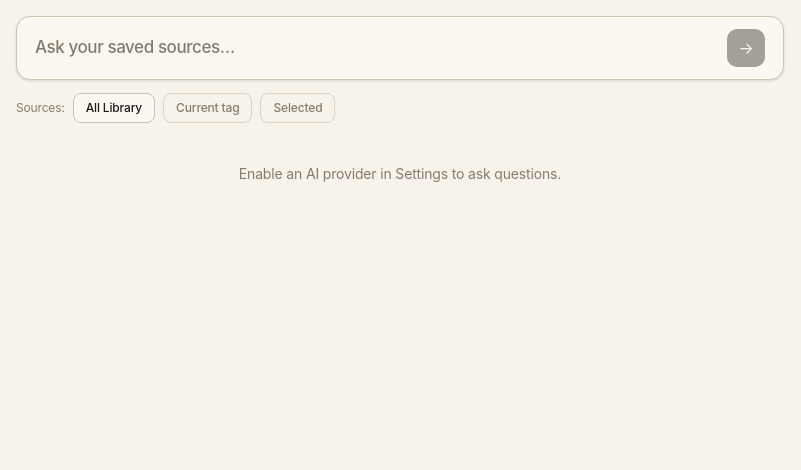
Test: AskPage › asks and renders the answer with citation chip and evidence
Step 1. Type "How do CRDTs merge?" into the field with placeholder "Ask your saved sources…" → (374, 48), box [35,35,714,61]
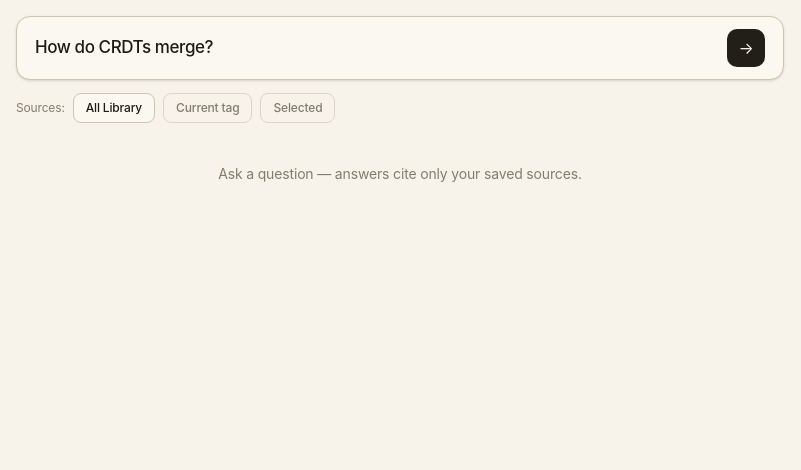
Check: the button named "Answer" is enabled
Step 2. Click the button named "Answer" → (746, 48), box [727,29,765,67]
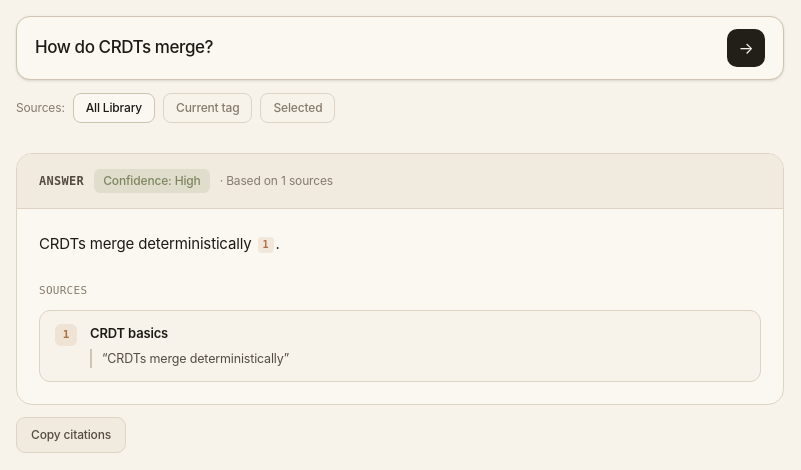
Check: the text "CRDTs merge deterministically 1 ." is shown, box [39,234,280,253]
Check: the text "CRDT basics" is shown, box [90,325,168,341]
Check: the text "· Based on 1 sources" is shown, box [220,172,333,190]
